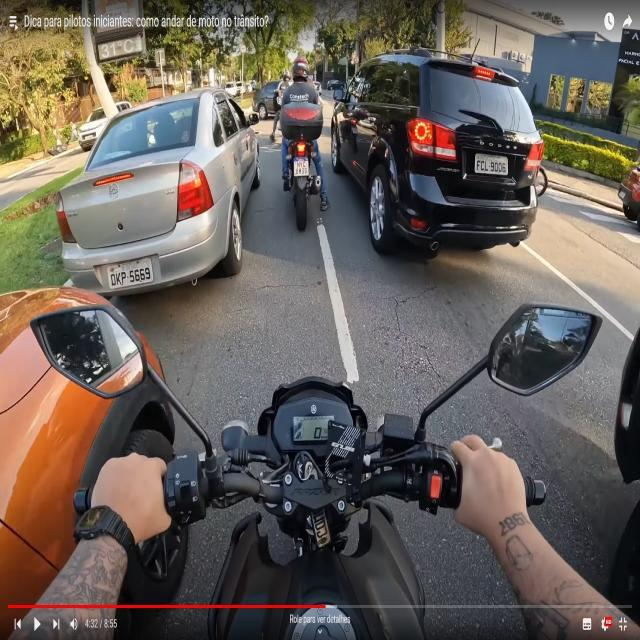Placa_mercosul_carro: (108, 257, 154, 290), (474, 153, 509, 176)
placa_moto: (292, 157, 308, 176)
